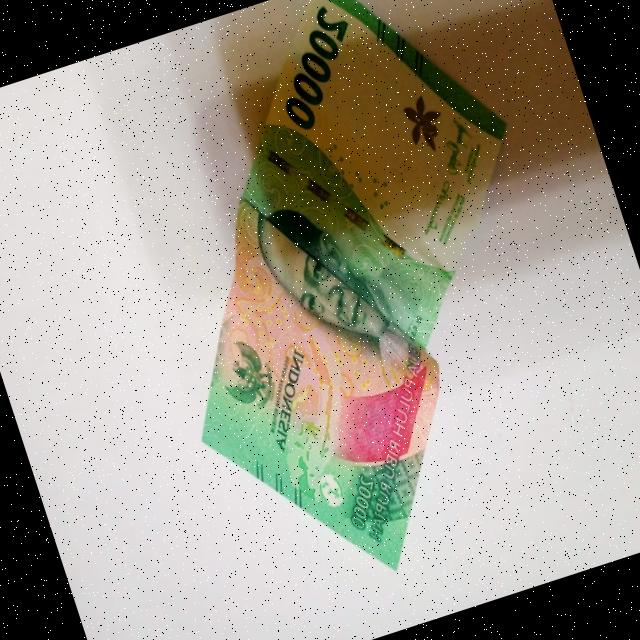20K: (72, 0, 637, 621)
